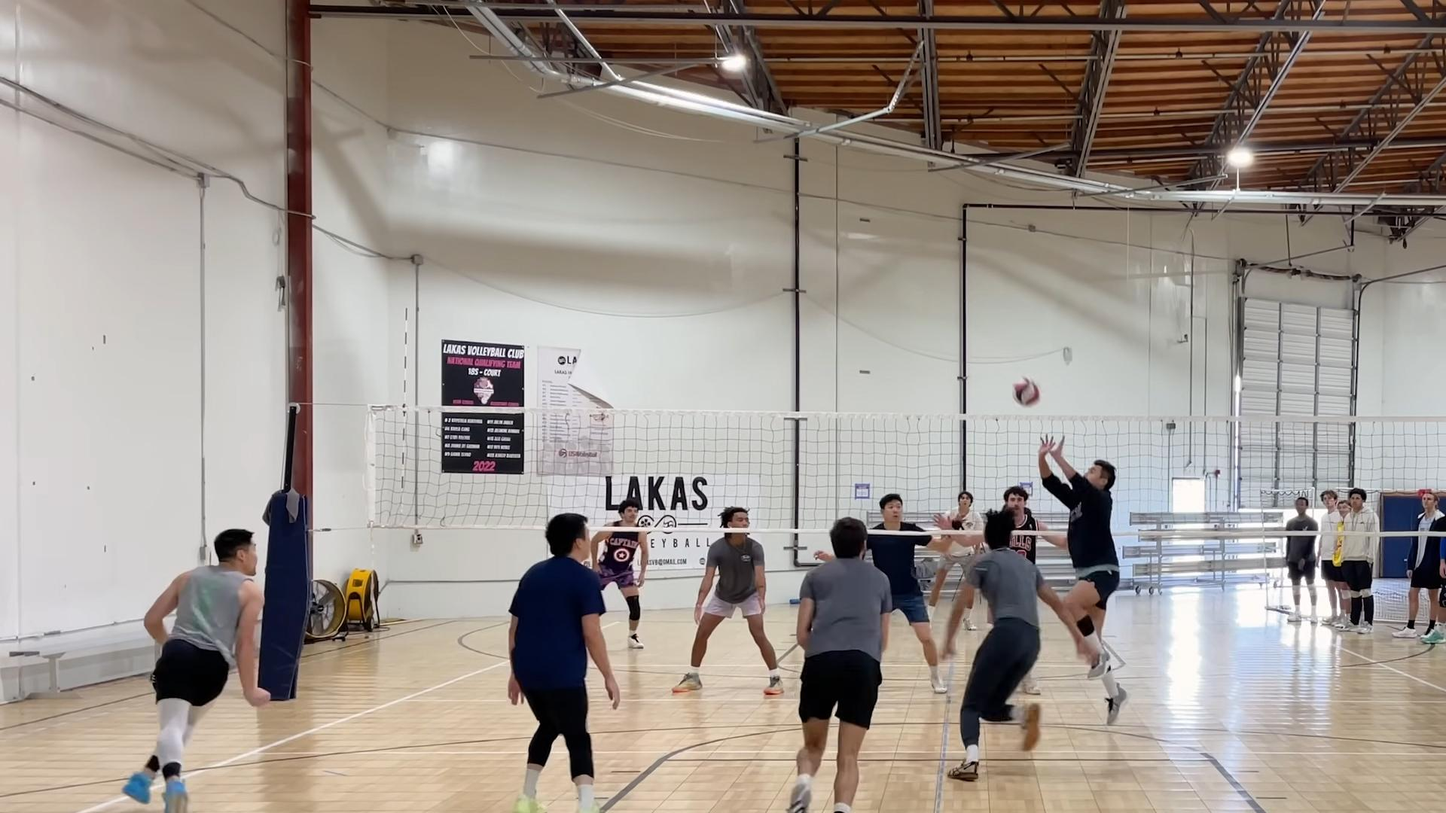Player: (123, 529, 269, 812), (948, 513, 1095, 781), (508, 513, 619, 812), (788, 517, 890, 812), (673, 507, 782, 695), (867, 493, 949, 693), (591, 498, 648, 648), (1003, 486, 1066, 563), (929, 533, 981, 607)
Set: (1037, 428, 1130, 727)
ball: (1016, 377, 1041, 405)
